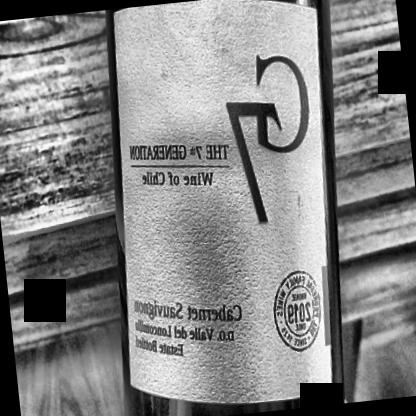G7: (86, 0, 361, 415)
